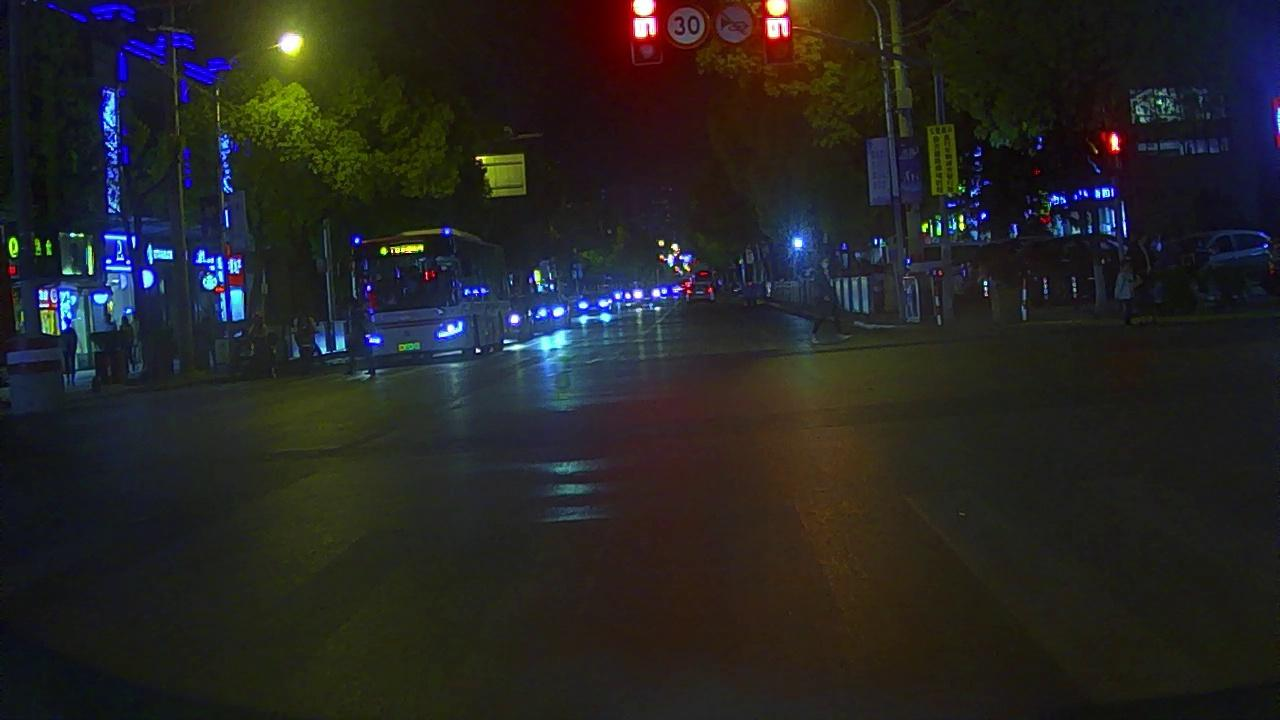traffic_light: (625, 1, 663, 62), (763, 1, 793, 59)
